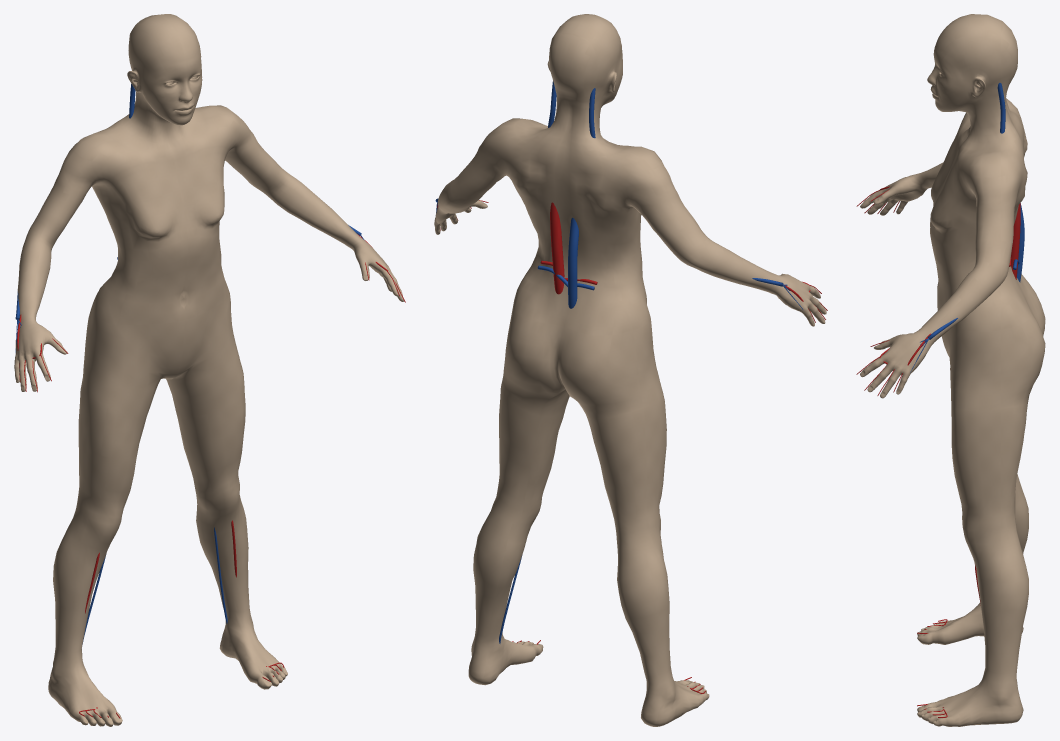
Rendered from circulatory-system.glb.
3 views of the same model, side by side, from view 1: azimuth 30°, elevation 25°; view 2: azimuth 150°, elevation 25°; view 3: azimuth 270°, elevation 25° (orthographic).
Visible parts, largest first — view 1: MakeHuman CC0 systems orientation envelope; view 2: MakeHuman CC0 systems orientation envelope, Ascending aorta leftward arch descending aorta, Inferior vena cava returning to right atrium; view 3: MakeHuman CC0 systems orientation envelope, Ascending aorta leftward arch descending aorta, Inferior vena cava returning to right atrium.
Part boxes in pixels (x1,y1,x2,y2): MakeHuman CC0 systems orientation envelope: (14, 14, 404, 726); MakeHuman CC0 systems orientation envelope: (434, 14, 826, 726); Ascending aorta leftward arch descending aorta: (550, 202, 564, 294); Inferior vena cava returning to right atrium: (568, 217, 578, 308); MakeHuman CC0 systems orientation envelope: (860, 14, 1045, 726); Ascending aorta leftward arch descending aorta: (1011, 203, 1020, 279); Inferior vena cava returning to right atrium: (1017, 203, 1024, 282).
Size of the model in its own units: 1.04 by 1.75 by 0.4528.
Materials: 5 (5 with a texture image).
